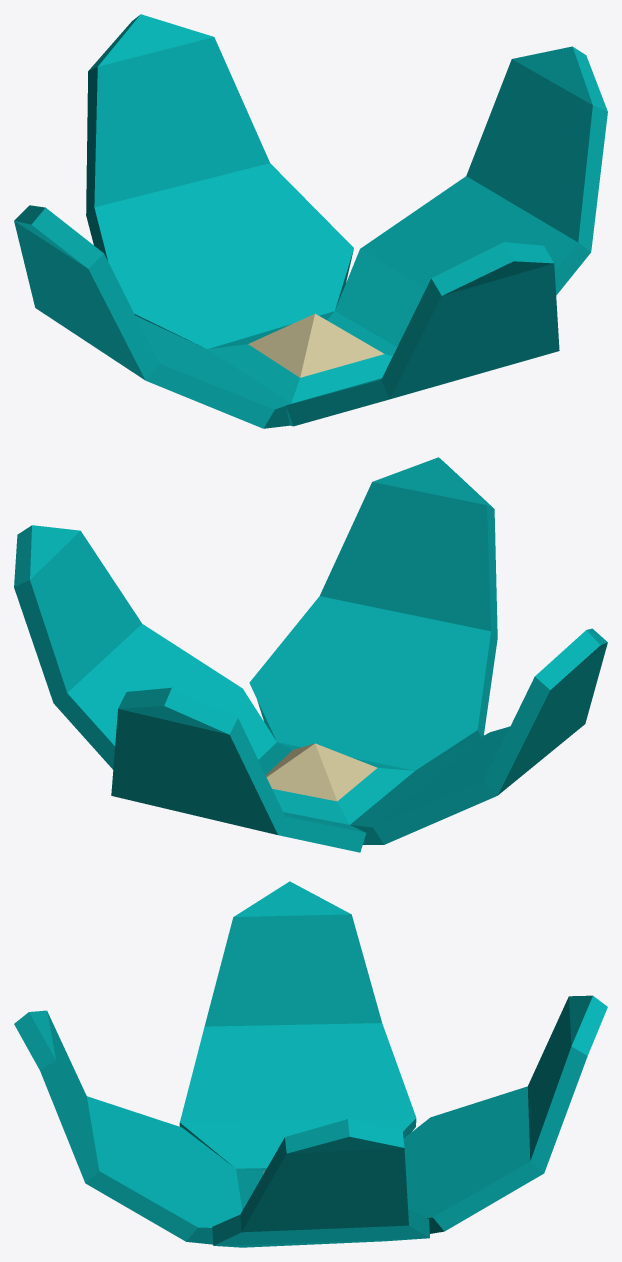
File: flowers_crop.glb
The picture shows the model from 3 angles, top to bottom: view 1: azimuth 30°, elevation 25°; view 2: azimuth 150°, elevation 25°; view 3: azimuth 270°, elevation 25°; orthographic projection. The views are drawn at different scales.
Visible parts, largest first — view 1: Cyan, Yellow; view 2: Cyan, Yellow; view 3: Cyan.
Boxes of the visible parts, x1,y1,x2,y2 form: Cyan: [14, 14, 607, 428]; Yellow: [248, 314, 383, 377]; Cyan: [14, 457, 607, 852]; Yellow: [266, 743, 377, 801]; Cyan: [14, 881, 607, 1247].
Bounding box in the file's own units: 0.2918 × 0.1162 × 0.2926.
